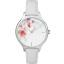watch: (14, 12, 51, 50)
